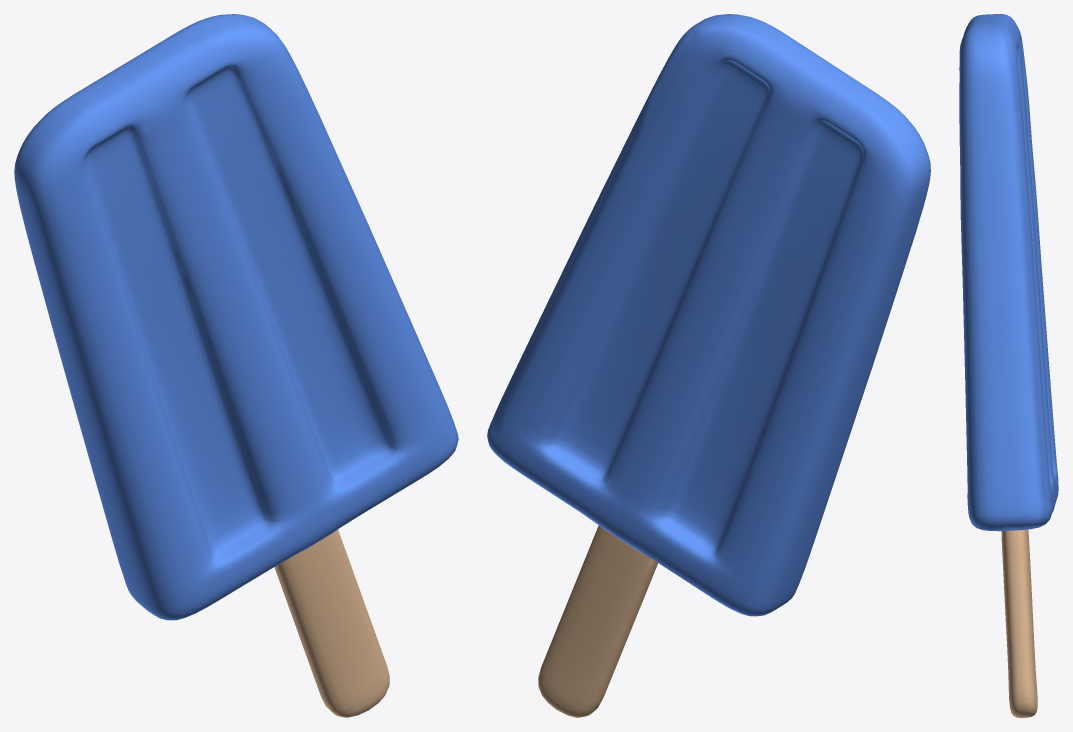
The model's file is cage_popsicle_blue.glb.
The picture shows the model from 3 angles, left to right: view 1: azimuth 30°, elevation 25°; view 2: azimuth 150°, elevation 25°; view 3: azimuth 270°, elevation 25°; orthographic projection. The views are drawn at different scales.
Visible parts, largest first — view 1: cage_popsicle_blue; view 2: cage_popsicle_blue; view 3: cage_popsicle_blue.
Boxes of the visible parts, box(x1,y1,x2,y2) form: cage_popsicle_blue: box(14, 14, 458, 717); cage_popsicle_blue: box(487, 14, 930, 717); cage_popsicle_blue: box(959, 14, 1058, 717).
Size of the model in its own units: 6.7 by 11 by 1.59.
